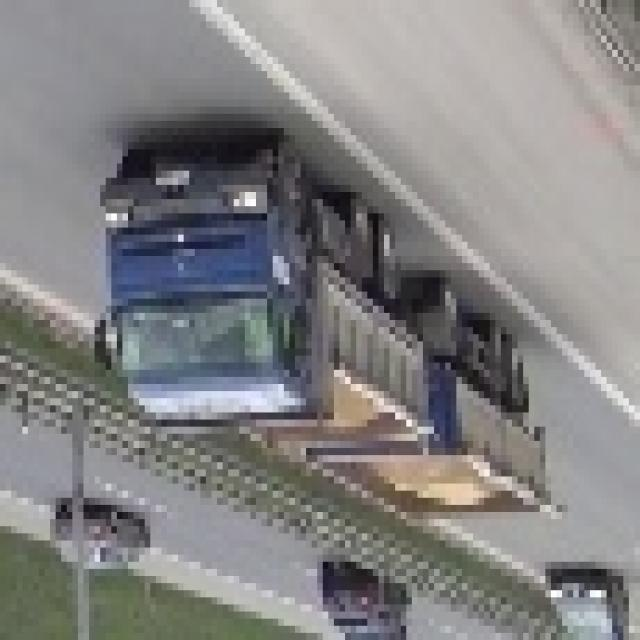truck: (88, 135, 546, 526)
